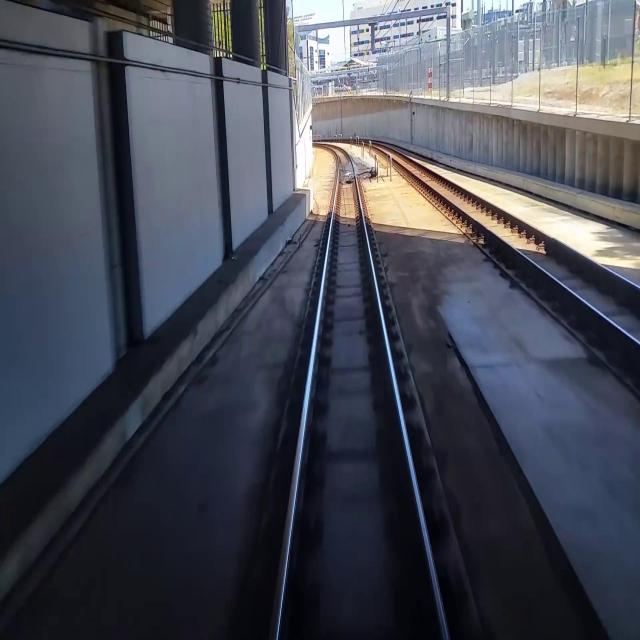rail-track: (276, 144, 445, 639), (371, 142, 640, 341)
